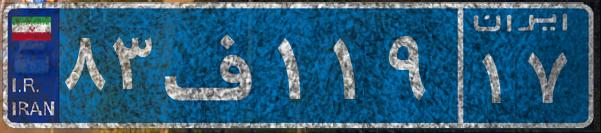1: (273, 28, 330, 110), (330, 28, 385, 110), (475, 38, 525, 113)
3: (110, 28, 158, 105)
7: (525, 38, 570, 115)
8: (57, 26, 110, 107)
9: (385, 28, 445, 110)
ف: (158, 15, 273, 115)
